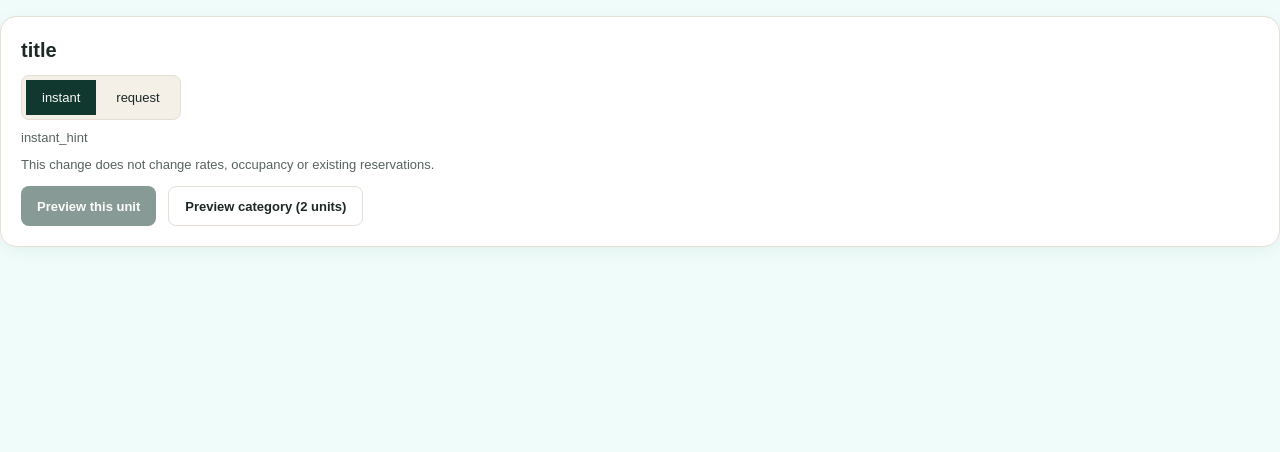
Scenario: reviewed per-unit booking mode › forces a new preview after a conflict or revocation
The width and height of the screenshot is (1280, 452).
Click the radio button labelled "request". click: (138, 98)
box: [100,80,176,115]
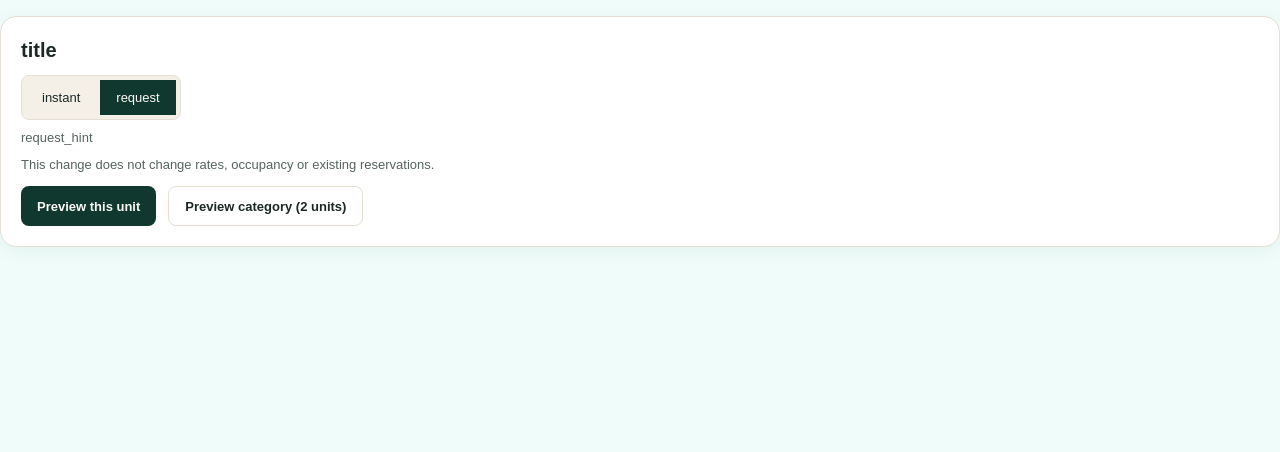
Click the button "Preview this unit". click: (89, 206)
box: [21,186,156,226]
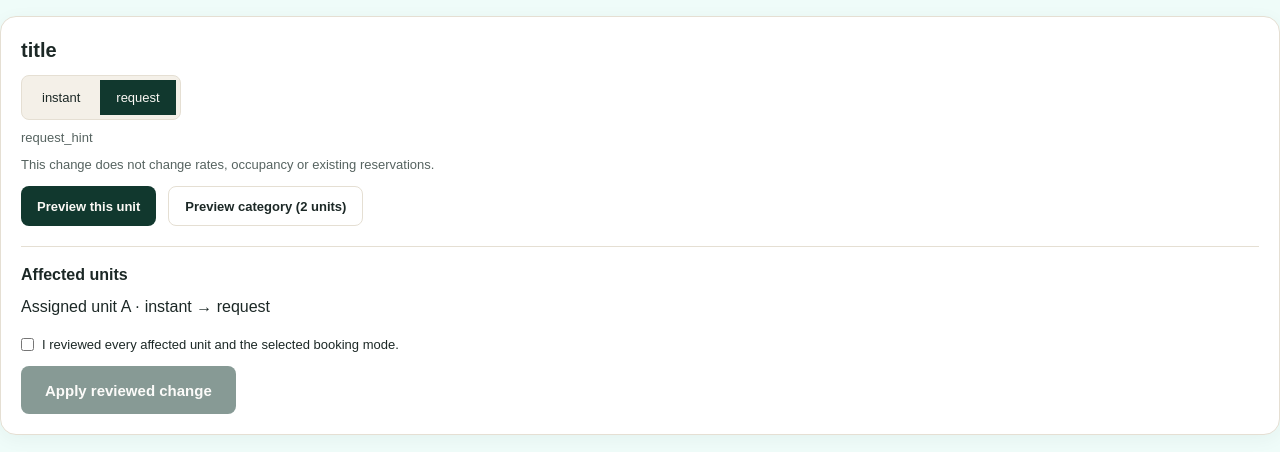
Click the checkbox. click: (28, 344)
box: [21,335,34,354]
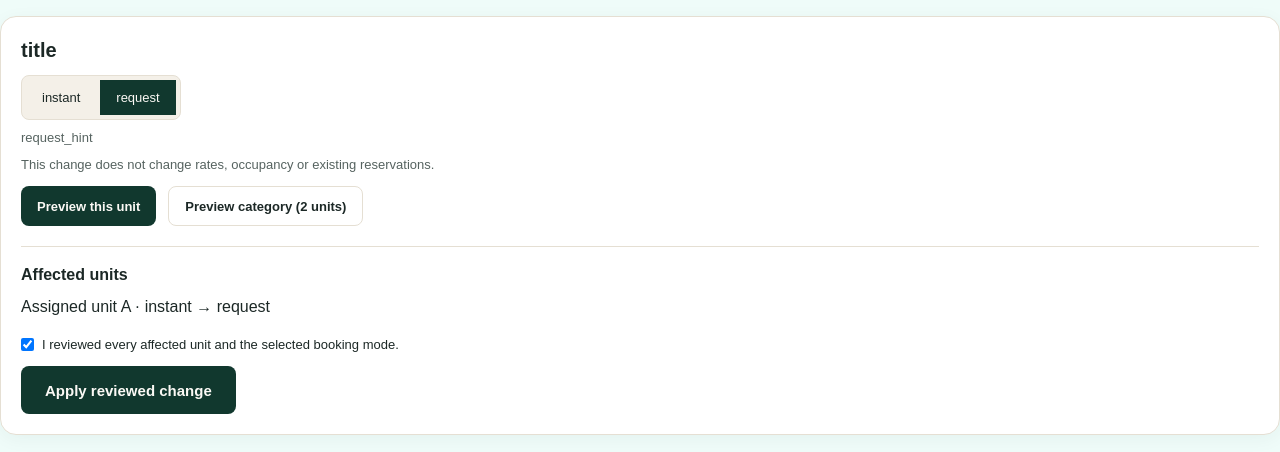
Click the button "Apply reviewed change". click: (128, 390)
box: [21,366,236,414]
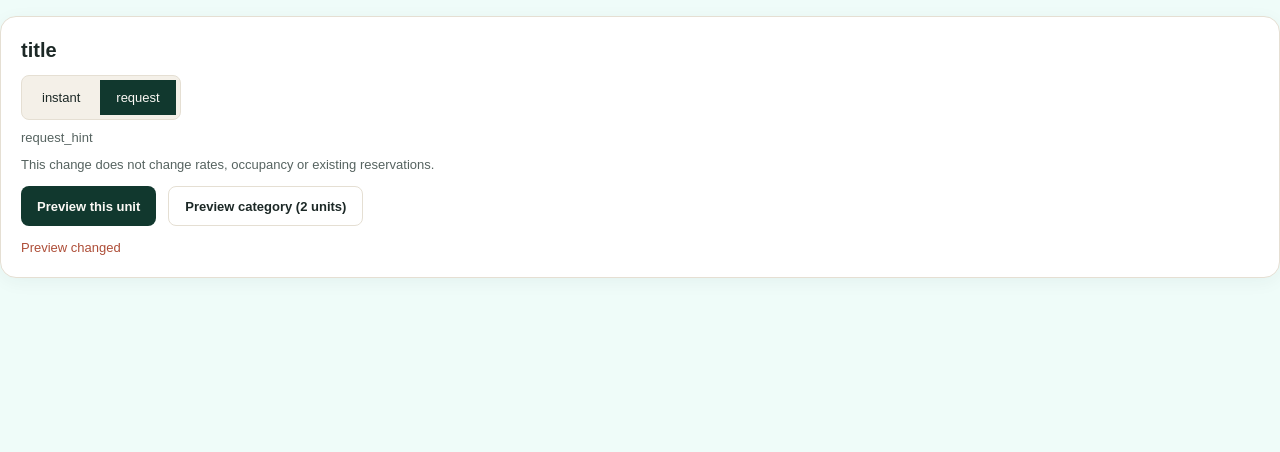
Check: the message reads "Preview changed", box [21,240,121,255]
Check: the button "Apply reviewed change" is gone
